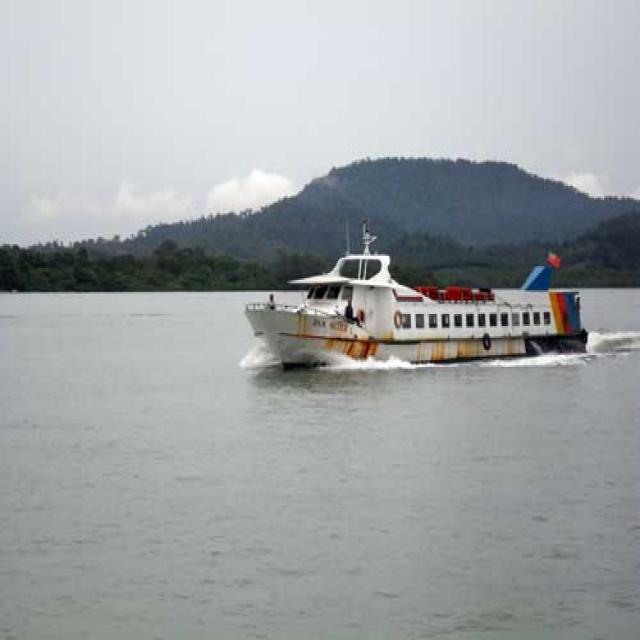houseboat: (219, 194, 589, 372)
